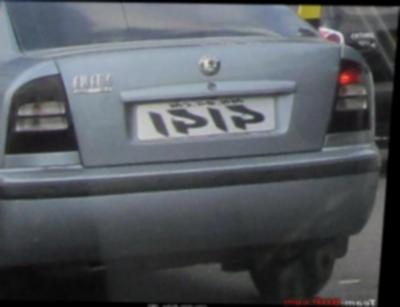License_Plate: (137, 93, 276, 140)
